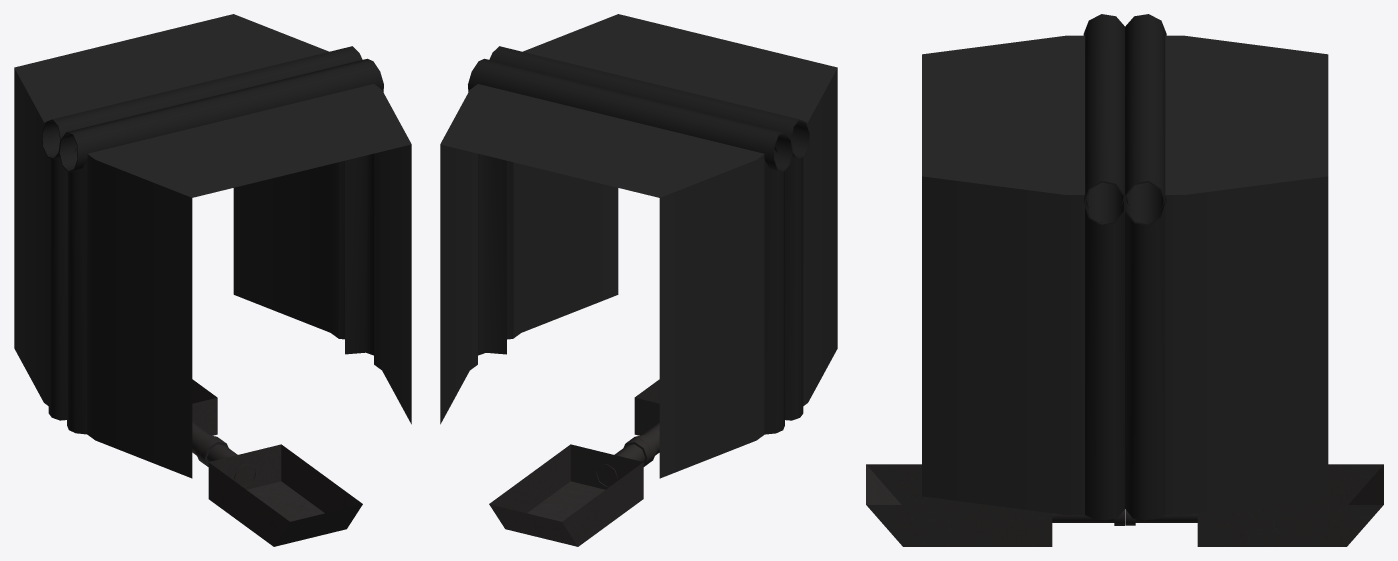
Rendered from model_train_xtrapolis_car_1.glb.
3 renders of one model, left to right at view 1: azimuth 30°, elevation 25°; view 2: azimuth 150°, elevation 25°; view 3: azimuth 270°, elevation 25°, orthographic. The views are drawn at different scales.
Visible parts, largest first — view 1: GangwayX_Trapolis (6); view 2: GangwayX_Trapolis (6); view 3: GangwayX_Trapolis (6).
Boxes of the visible parts, bbox=[...] form: GangwayX_Trapolis (6): bbox=[14, 14, 411, 546]; GangwayX_Trapolis (6): bbox=[440, 14, 837, 546]; GangwayX_Trapolis (6): bbox=[866, 14, 1383, 546].
Bounding box in the file's own units: 2.42 × 2.81 × 3.08.
Materials: 1 (1 with a texture image).
